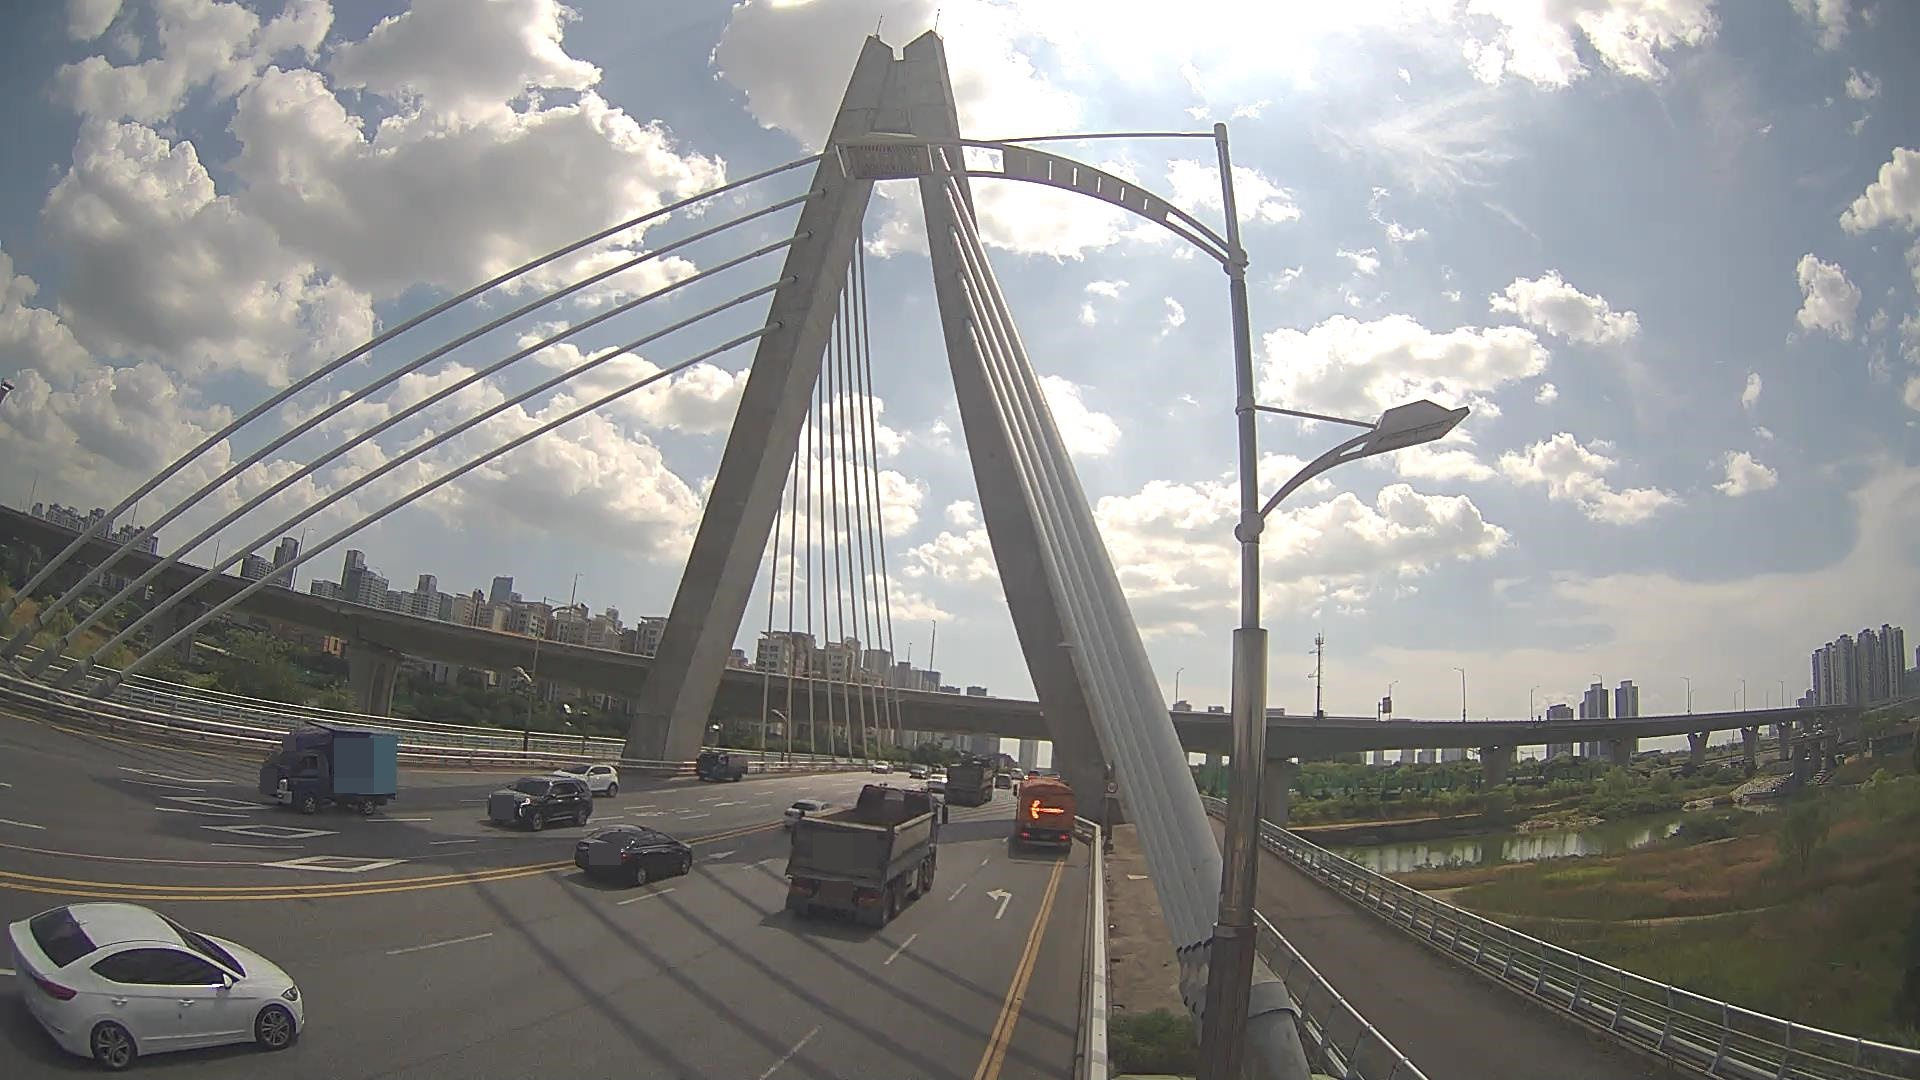정상차량: (783, 782, 948, 930)
